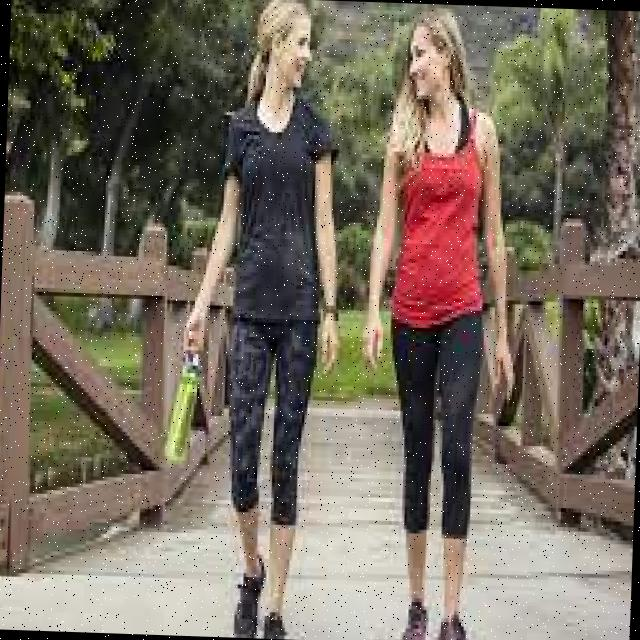Person: (155, 0, 349, 640), (352, 1, 525, 640)
